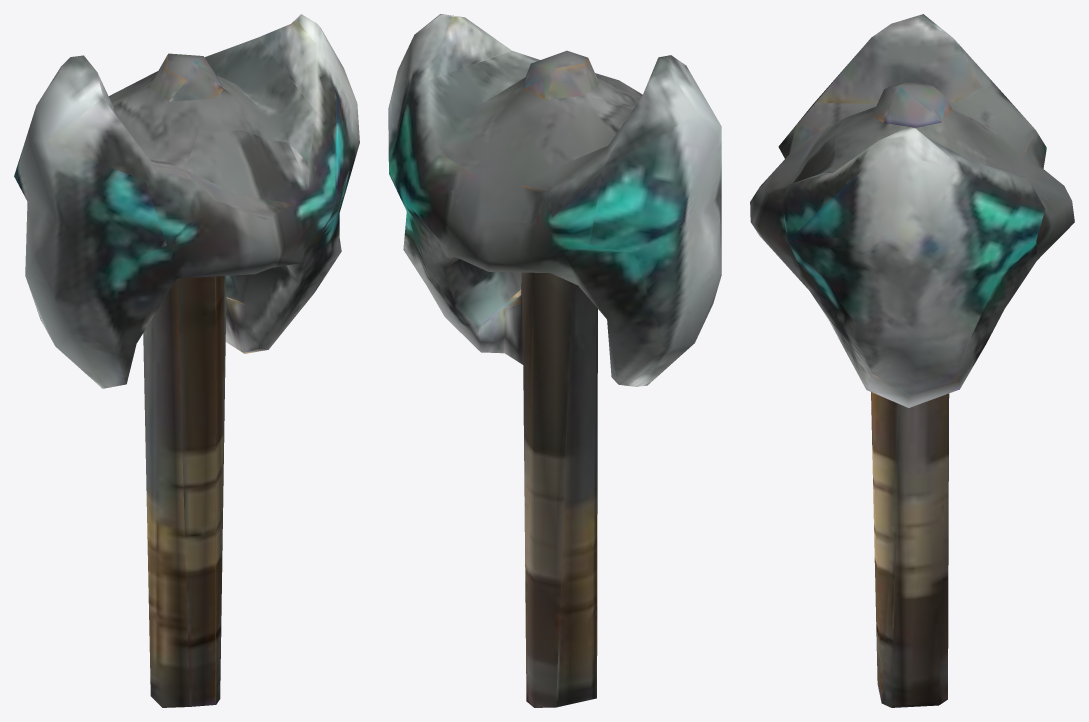
The model's file is axe_war.glb.
3 renders of one model, left to right at view 1: azimuth 30°, elevation 25°; view 2: azimuth 150°, elevation 25°; view 3: azimuth 270°, elevation 25°, orthographic. The views are drawn at different scales.
Parts seen in each view (by area): view 1: war axe; view 2: war axe; view 3: war axe.
Part boxes in pixels (x1,y1,x2,y2): war axe: (14,14,359,707); war axe: (388,14,721,707); war axe: (750,14,1074,707).
Size of the model in its own units: 0.1437 by 0.2889 by 0.1341.
1 material, 1 textured.
